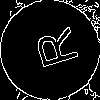R: (25, 25, 80, 74)
